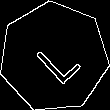L_NW: (26, 28, 82, 86)
